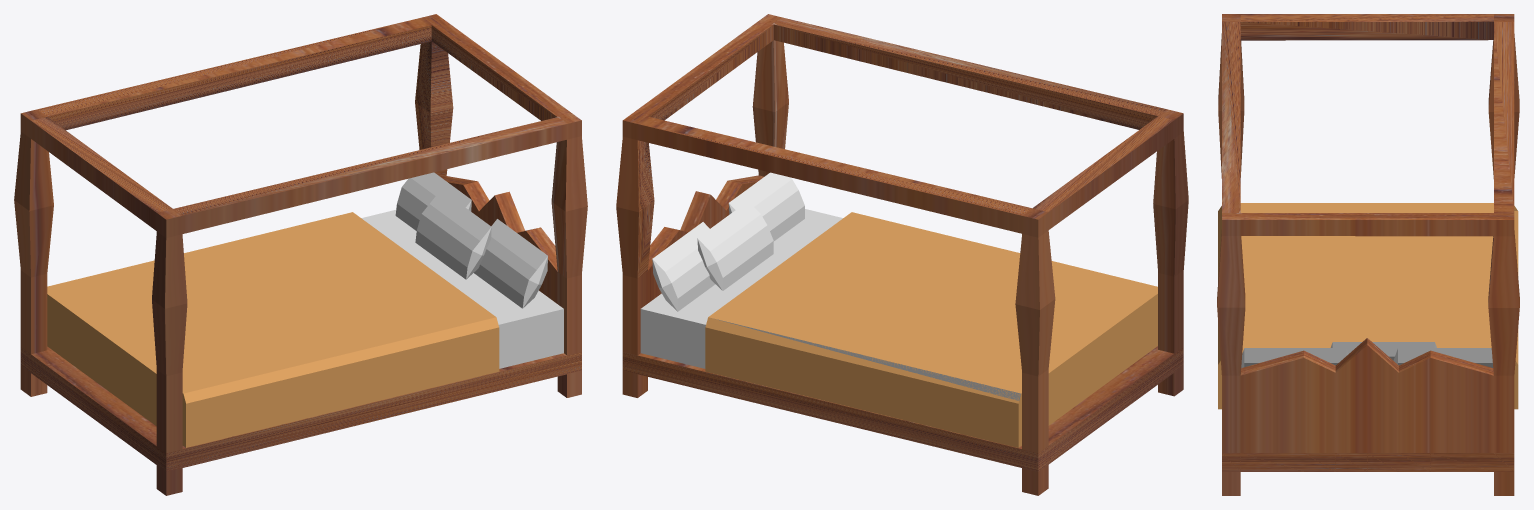
Rendered from Bed.fbx.
The picture shows the model from 3 angles, left to right: view 1: azimuth 30°, elevation 25°; view 2: azimuth 150°, elevation 25°; view 3: azimuth 270°, elevation 25°; orthographic projection.
Parts seen in each view (by area): view 1: Cube, Cube.001, Cube.004, Cube.003, Cube.002; view 2: Cube, Cube.001, Cube.004, Cube.002, Cube.003; view 3: Cube, Cube.001, Cube.003, Cube.002, Cube.004.
Boxes of the visible parts, x1,y1,x2,y2 form: Cube: (14,14,587,495); Cube.001: (47,210,563,447); Cube.004: (415,190,491,279); Cube.003: (474,219,547,308); Cube.002: (395,172,471,230); Cube: (616,14,1188,495); Cube.001: (640,209,1157,447); Cube.004: (697,201,773,290); Cube.002: (652,222,715,311); Cube.003: (728,172,804,241); Cube: (1217,14,1519,495); Cube.001: (1218,203,1518,409); Cube.003: (1241,348,1348,367); Cube.002: (1393,348,1493,367); Cube.004: (1330,342,1436,360).
Size of the model in its own units: 1383 by 862 by 850.
